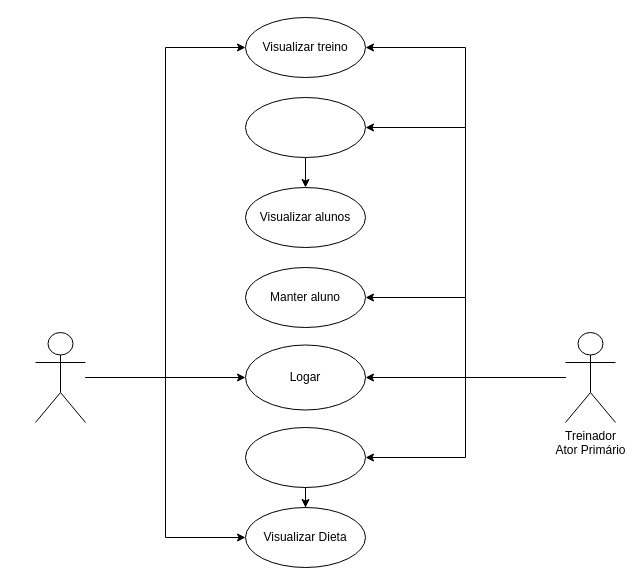
This 643x585 diagram has some shape labels left out. The shapes that lost their labels are listed below. From the top down, each one's centre as x and y in pixels, then its label:
At point 305,127: "Manter treino".
At point 60,377: "Aluno Ator Secundário".
At point 305,457: "Manter Dieta".
